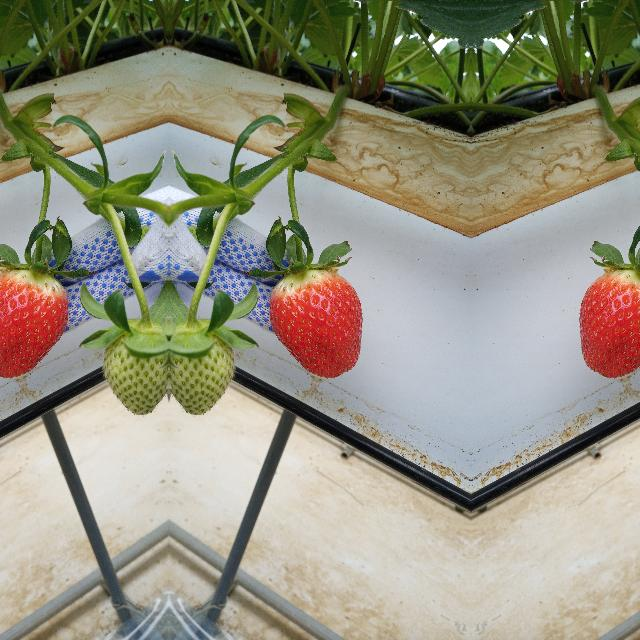Health_100: (268, 269, 362, 379), (0, 269, 68, 379), (579, 269, 640, 379)
Health_25: (168, 321, 236, 421), (100, 321, 168, 421)
